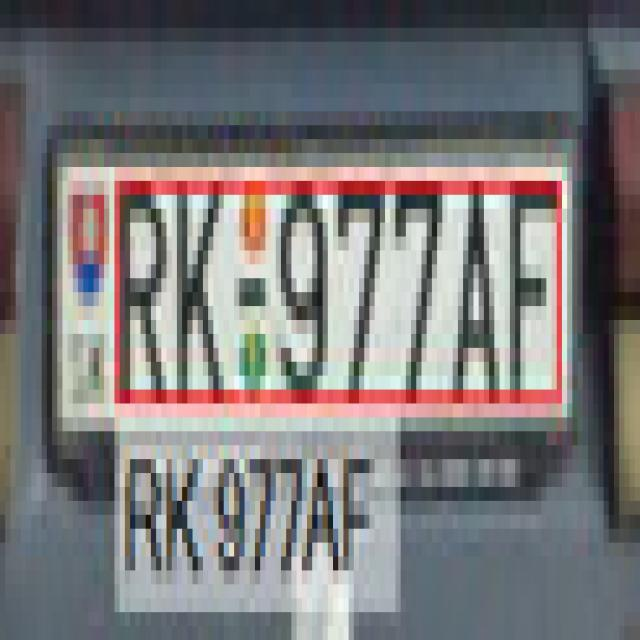7: (391, 163, 447, 412), (334, 165, 388, 416)
9: (274, 166, 334, 418)
A: (452, 174, 502, 418)
F: (504, 150, 566, 406)
K: (170, 177, 230, 416)
R: (116, 176, 168, 414)
